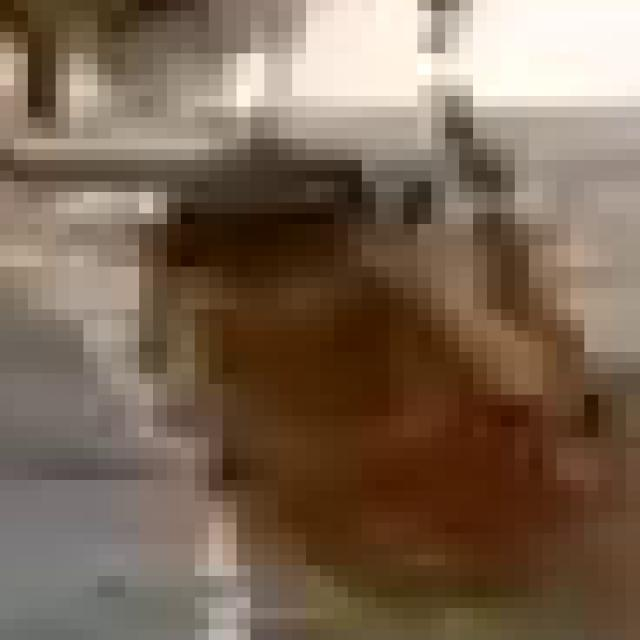honeybee: (132, 60, 559, 586)
